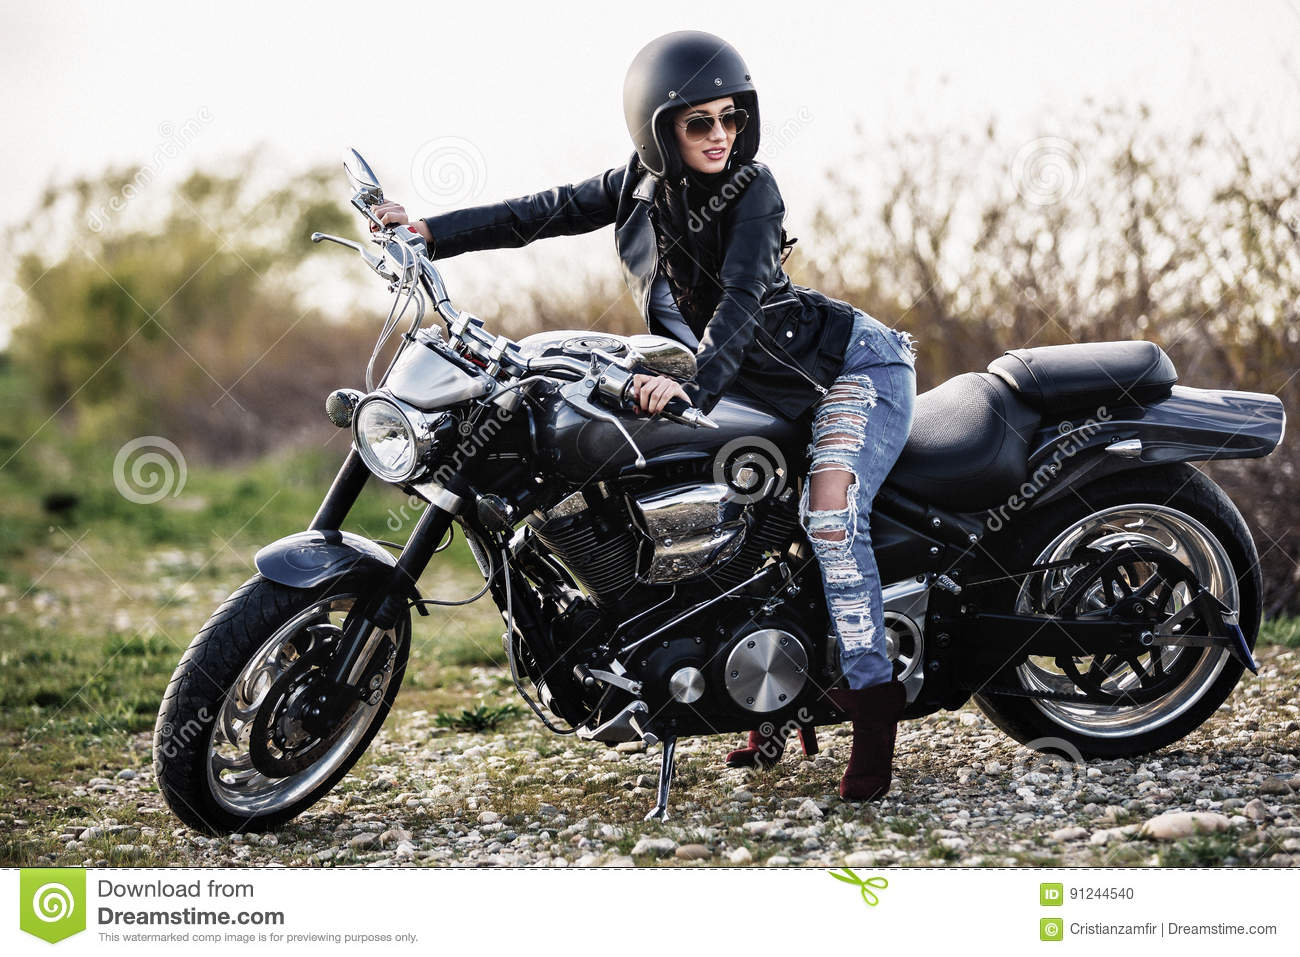helmet: (623, 33, 764, 191)
